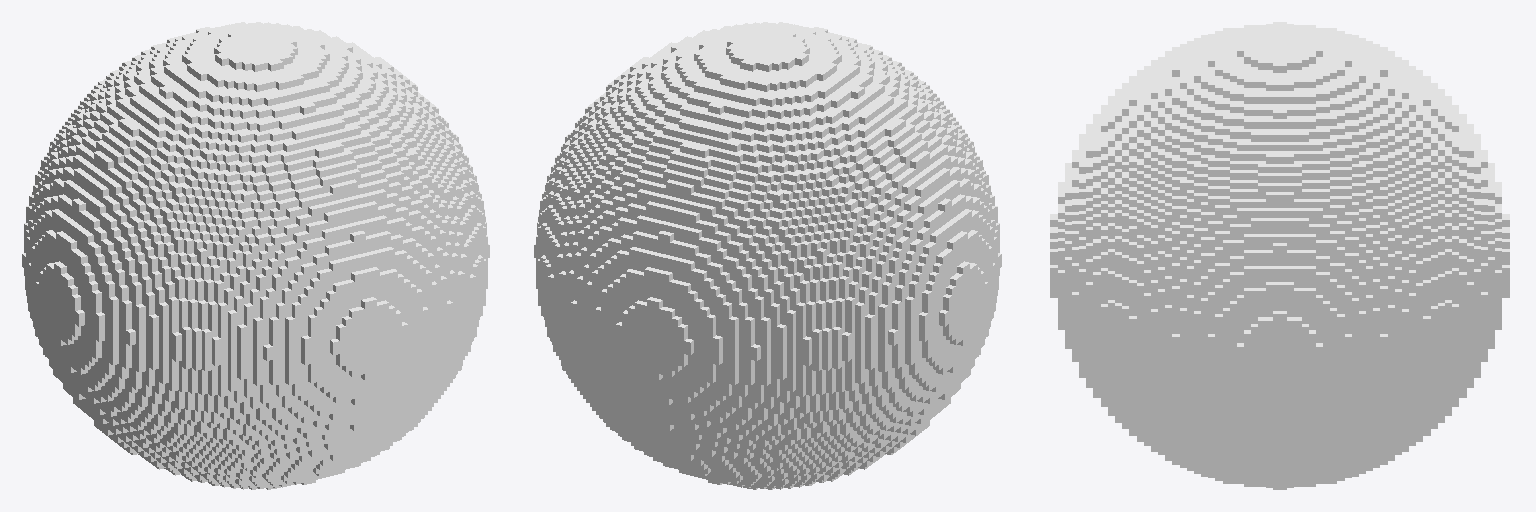
The model's file is bolafoc.obj.
3 renders of one model, left to right at view 1: azimuth 30°, elevation 25°; view 2: azimuth 150°, elevation 25°; view 3: azimuth 270°, elevation 25°, orthographic.
Visible parts, largest first — view 1: object 1; view 2: object 1; view 3: object 1.
Part boxes in pixels (bbox=[...]): object 1: bbox=[22, 22, 489, 489]; object 1: bbox=[534, 22, 1001, 489]; object 1: bbox=[1050, 22, 1509, 489].
Bounding box in the file's own units: 6.4 × 6.4 × 6.4.